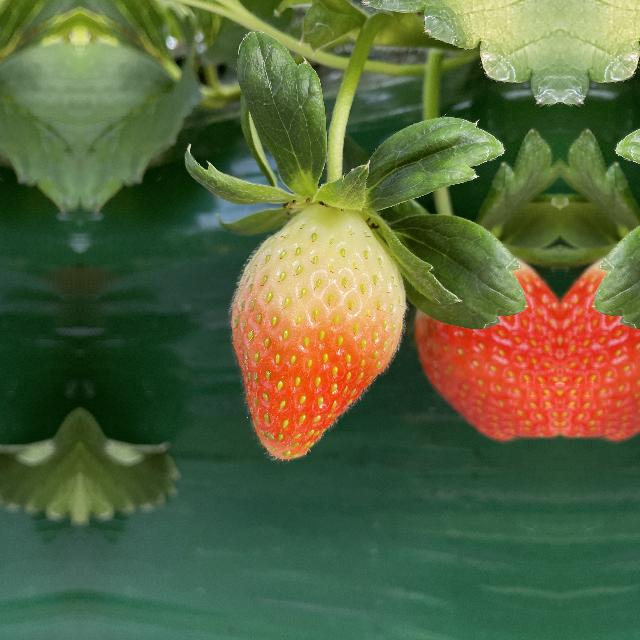Health_100: (416, 256, 560, 444), (560, 256, 640, 443)
Health_75: (232, 191, 410, 467)
